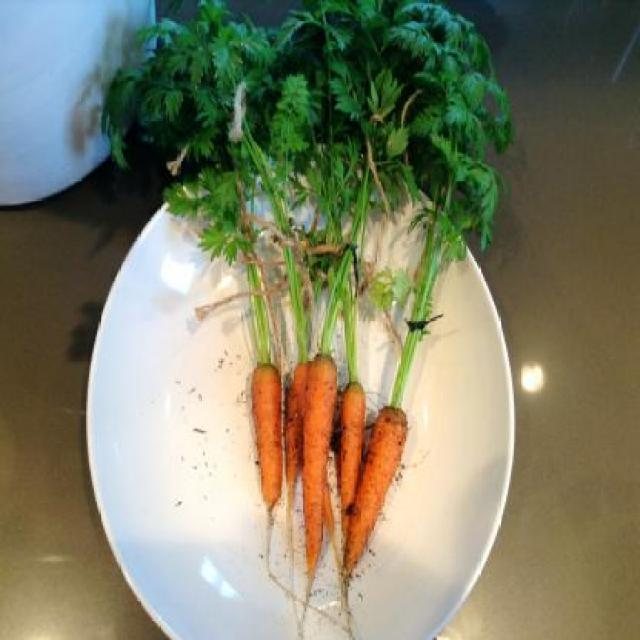Carrot: (250, 357, 413, 626), (302, 348, 342, 638)
